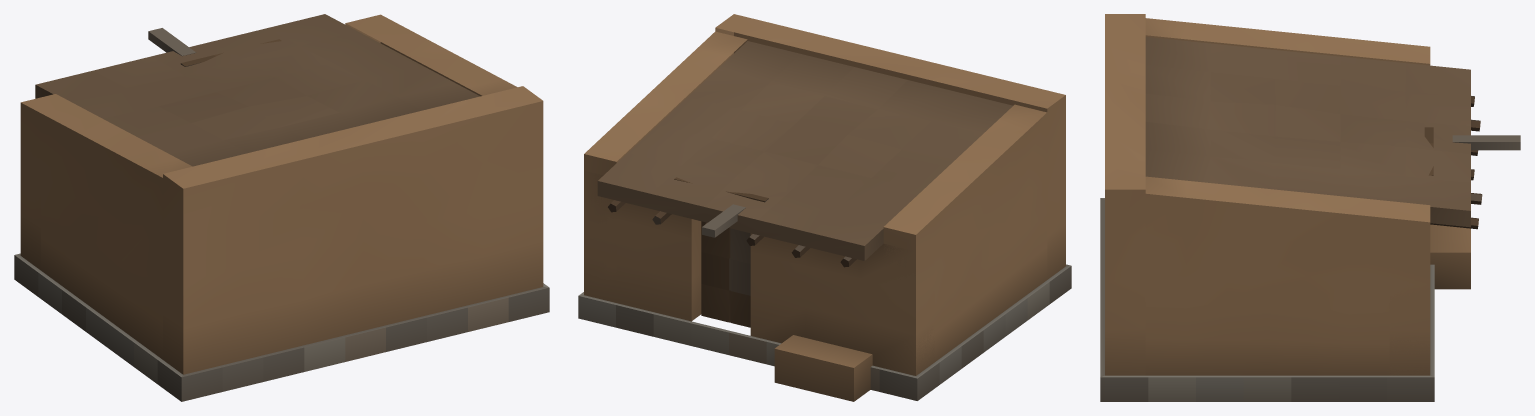
Rendered from casa_rancho_c.glb.
3 renders of one model, left to right at view 1: azimuth 30°, elevation 25°; view 2: azimuth 150°, elevation 25°; view 3: azimuth 270°, elevation 25°, orthographic. The views are drawn at different scales.
Parts seen in each view (by area): view 1: casa_rancho_c; view 2: casa_rancho_c; view 3: casa_rancho_c.
Part boxes in pixels (x1,y1,x2,y2): casa_rancho_c: (14,14,549,401); casa_rancho_c: (578,14,1071,401); casa_rancho_c: (1100,14,1520,401).
Bounding box in the file's own units: 4.7 × 2.57 × 4.65.
